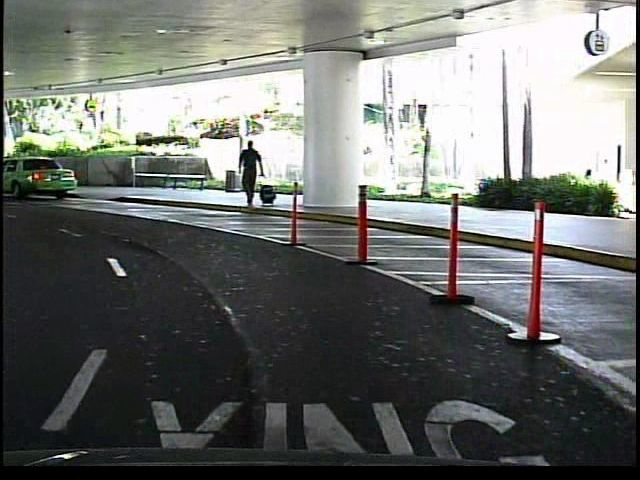person: (235, 136, 267, 211)
